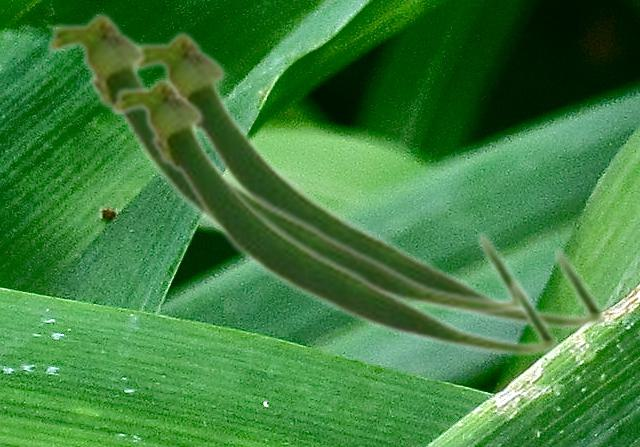french_bean: (42, 8, 531, 317), (138, 27, 608, 332), (108, 73, 560, 358)
